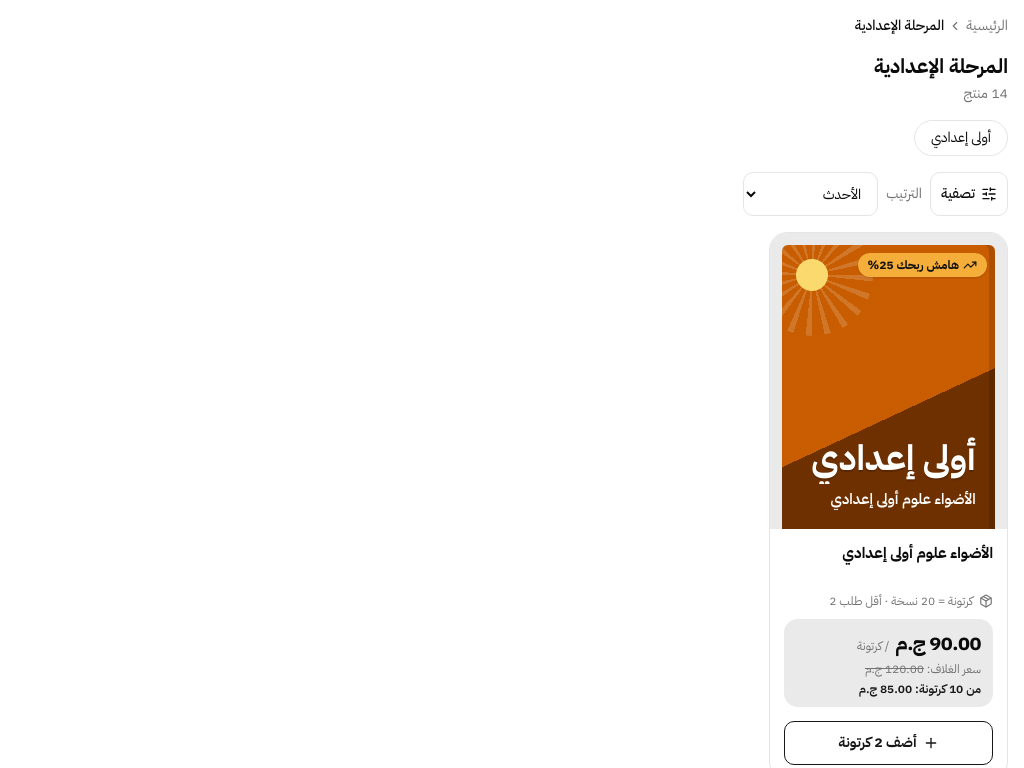
it: ProductListing › shows the first eight options of a long group until «show all», and searches a group past twelve
Click the button "تصفية" at (969, 194), box [930,172,1008,216]
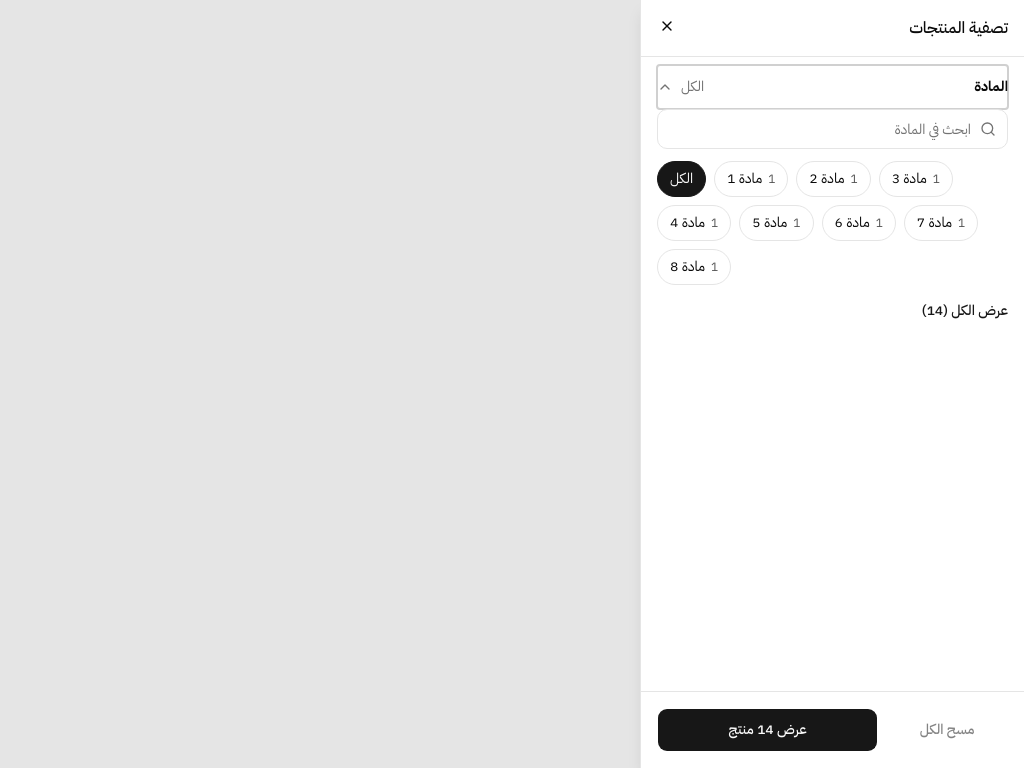
Now the number of radio buttons is 9
Click the button "عرض الكل (14)" at (965, 311), box [922,297,1008,325]
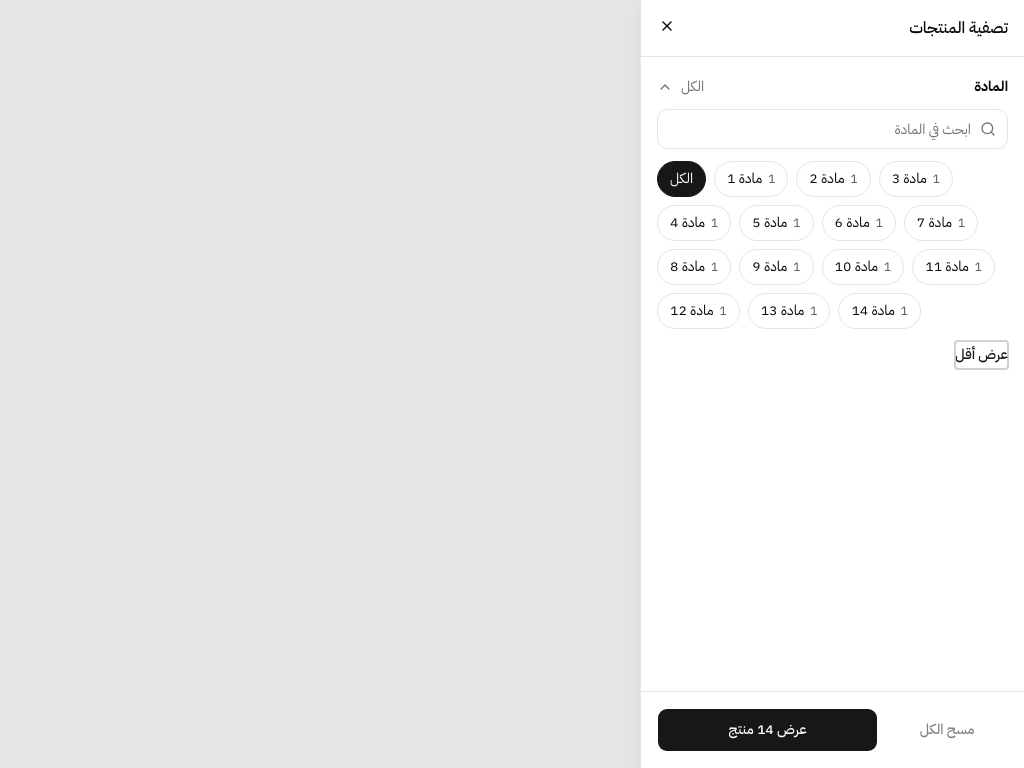
Now the number of radio buttons is 15
Click the button "عرض أقل" at (982, 355), box [955,341,1008,369]
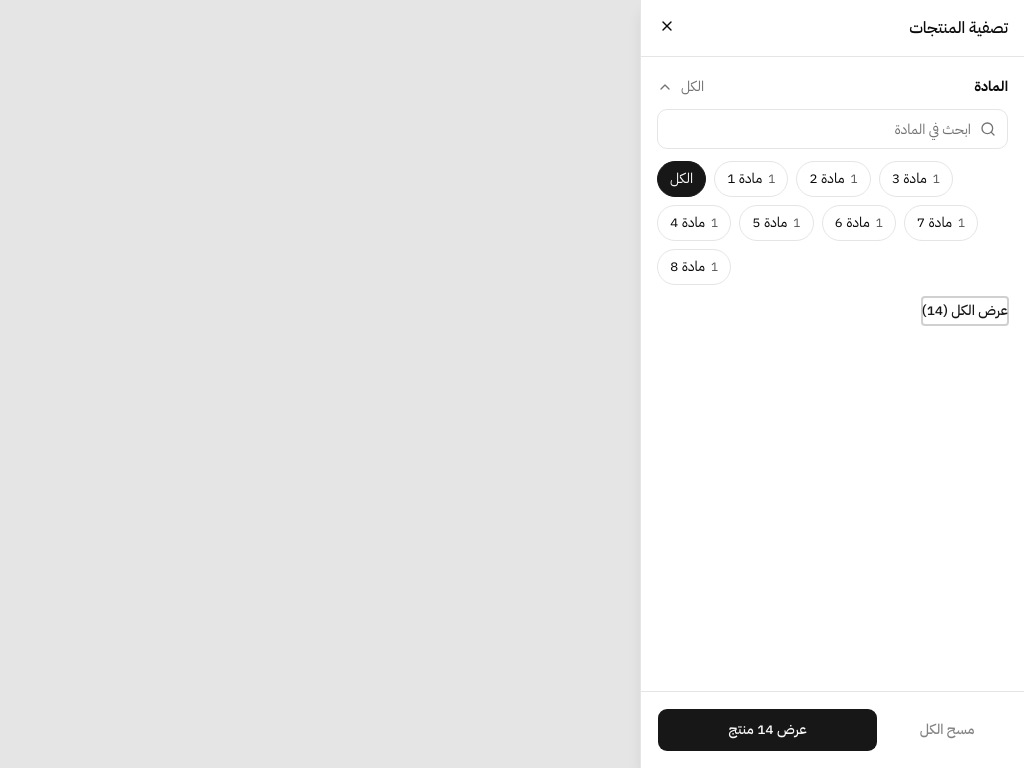
Type "مادة 13" into the search field labelled "ابحث في المادة" at (832, 129), box [657,109,1008,149]
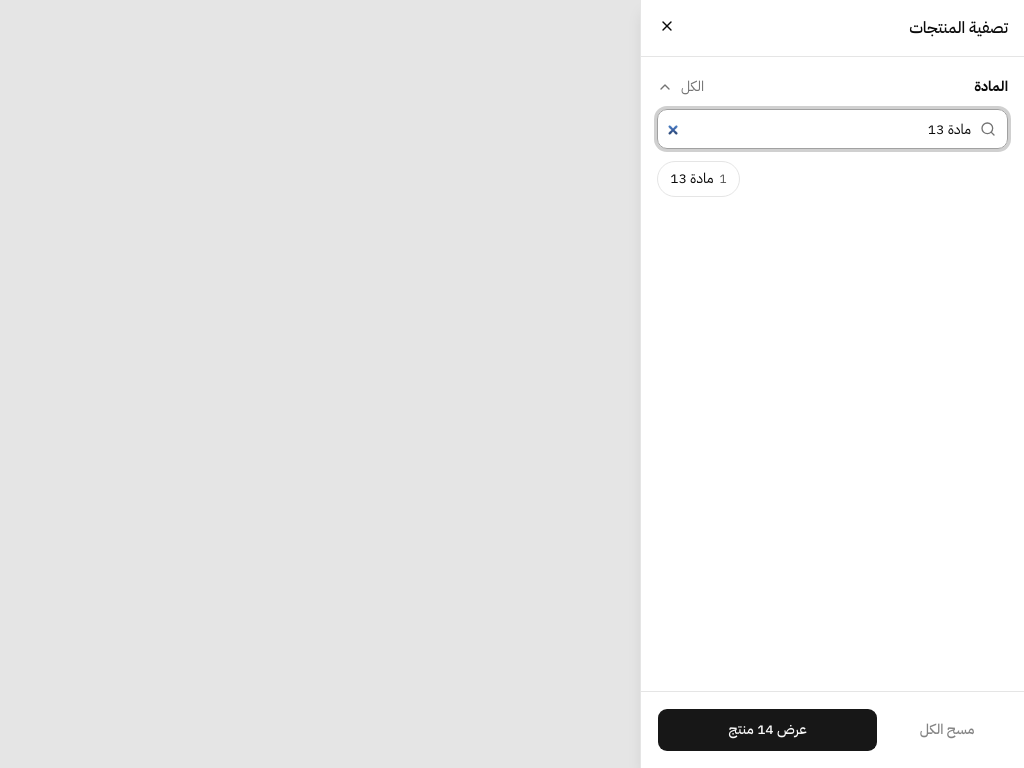
Now the radio buttons read "مادة 131", in this order, box [657,161,740,197]
Replace the text in the search field with "رياضيات" at (832, 129), box [657,109,1008,149]
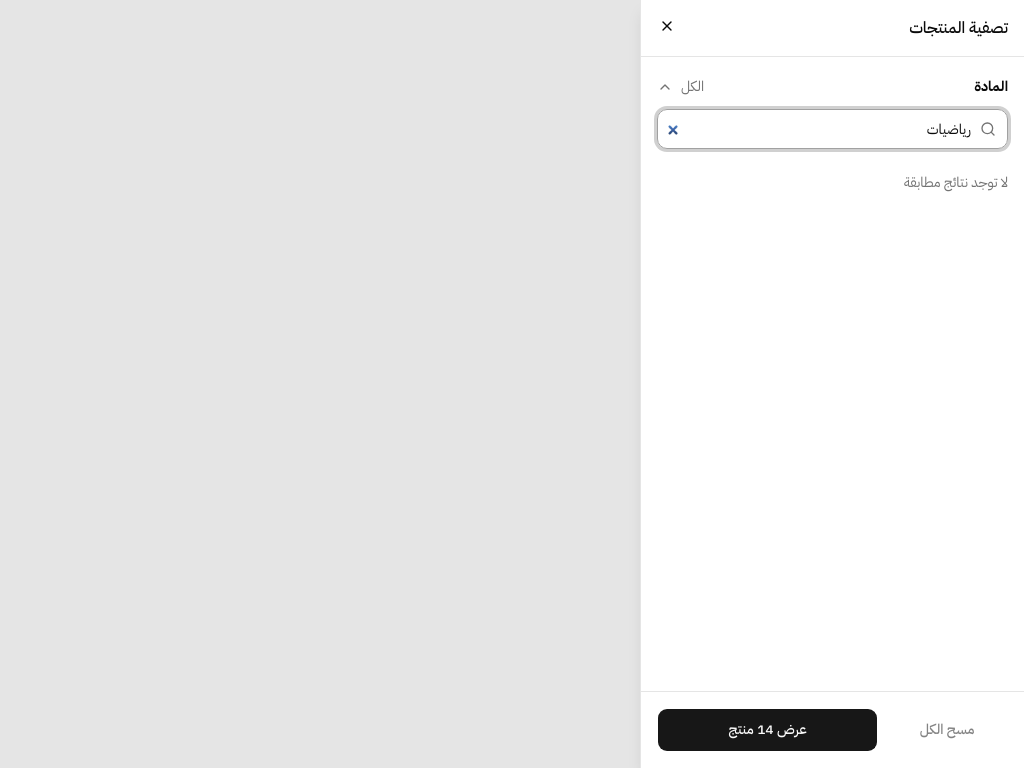
Now the radio button is gone
Now the text "لا توجد نتائج مطابقة" is shown, box [904,172,1008,193]
